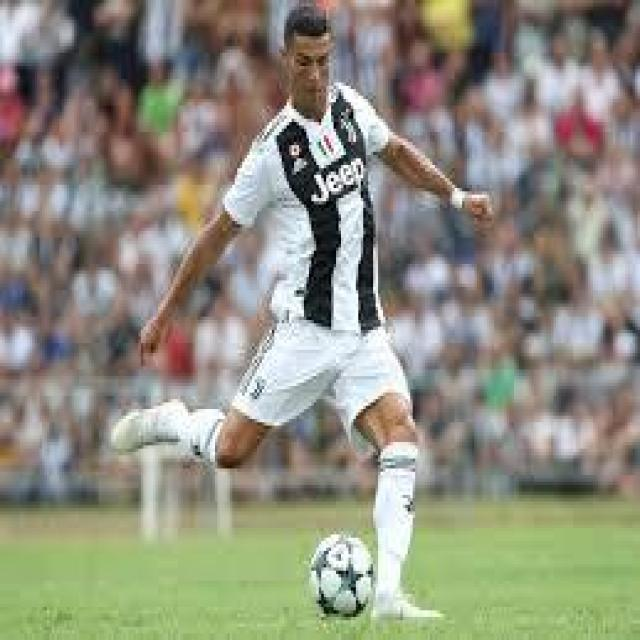Soccer Ball: (311, 534, 373, 617)
